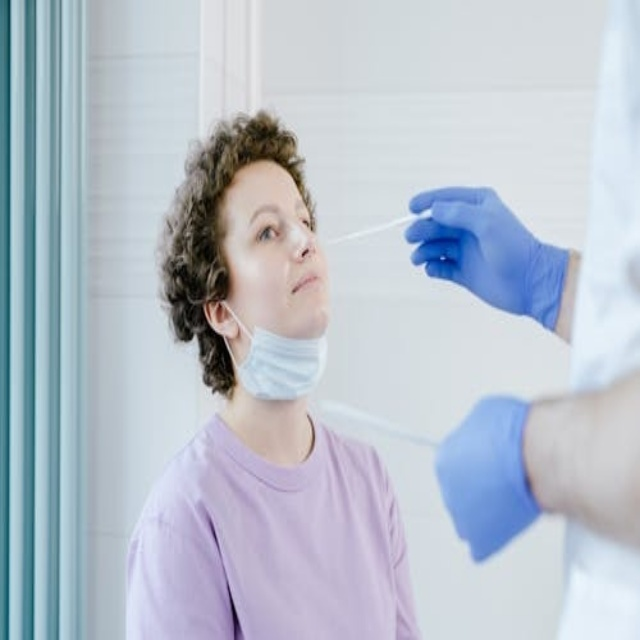Guantes: (404, 186, 569, 333), (435, 392, 546, 565)
Sin_gafas: (232, 192, 323, 250)
Sin_mascara: (269, 263, 332, 321)
